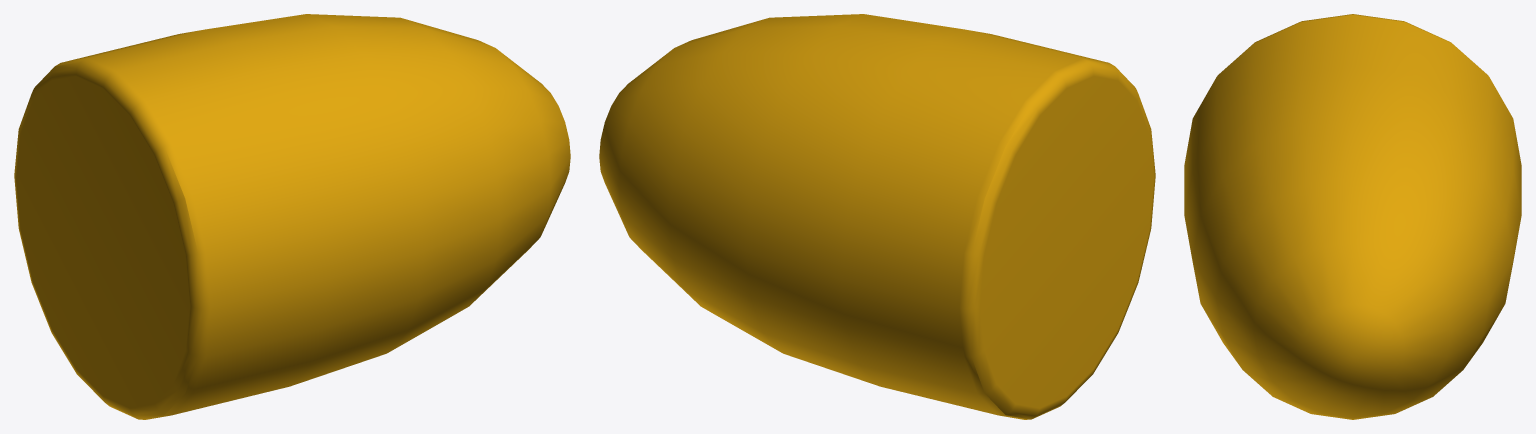
The model's file is pickle_endslice.fbx.
3 views of the same model, side by side, from view 1: azimuth 30°, elevation 25°; view 2: azimuth 150°, elevation 25°; view 3: azimuth 270°, elevation 25° (orthographic). The views are drawn at different scales.
Parts seen in each view (by area): view 1: pCylinder82; view 2: pCylinder82; view 3: pCylinder82.
Part boxes in pixels (left/top/right/bottom): pCylinder82: left=14, top=14, right=570, bottom=419; pCylinder82: left=599, top=14, right=1155, bottom=419; pCylinder82: left=1184, top=14, right=1521, bottom=419.
Bounding box in the file's own units: 0.0733 × 0.0517 × 0.0528.
